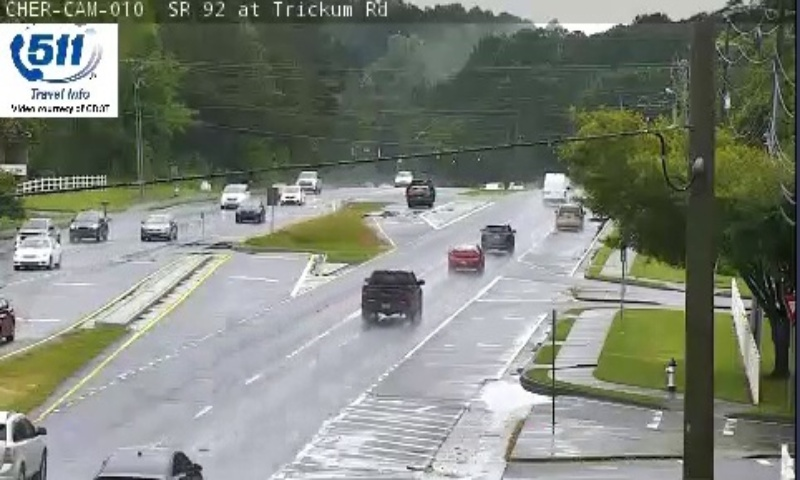car: (361, 270, 421, 315), (448, 245, 484, 272), (481, 225, 514, 249), (556, 202, 583, 228)
